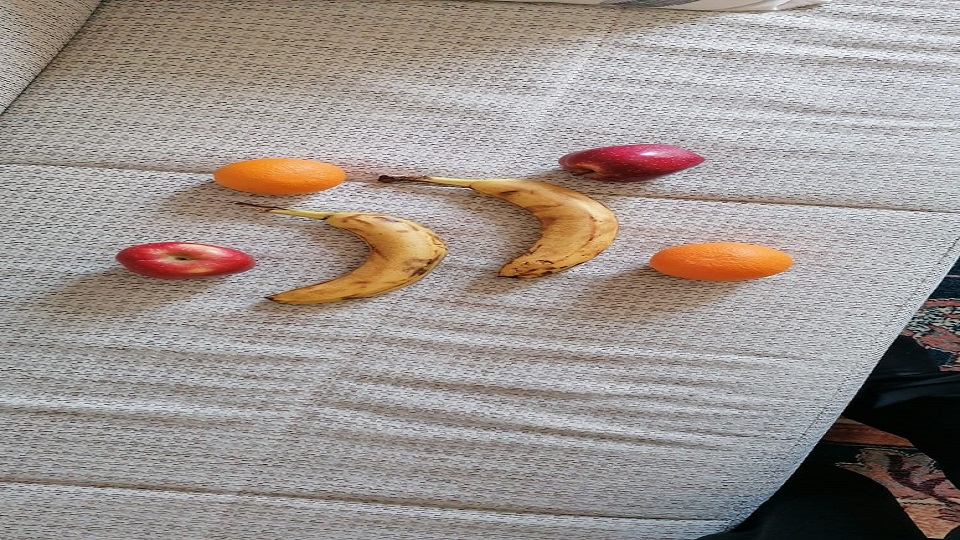elma: (557, 143, 705, 184), (115, 241, 258, 280)
muz: (432, 177, 621, 280), (263, 207, 447, 307)
portakal: (648, 241, 794, 284), (212, 156, 346, 197)
